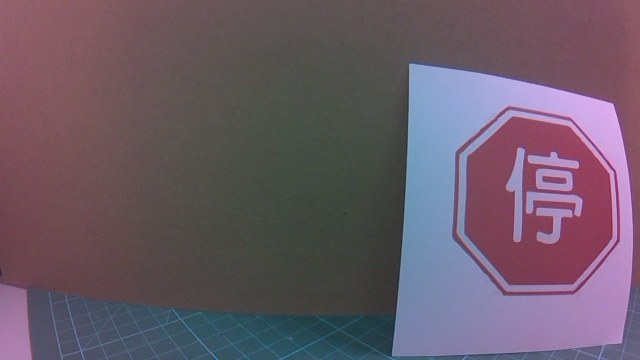stop: (427, 105, 623, 311)
